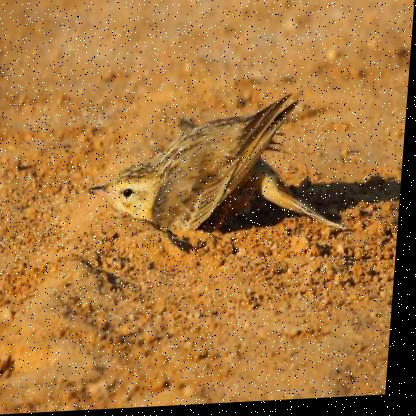Burung: (83, 93, 359, 245)
